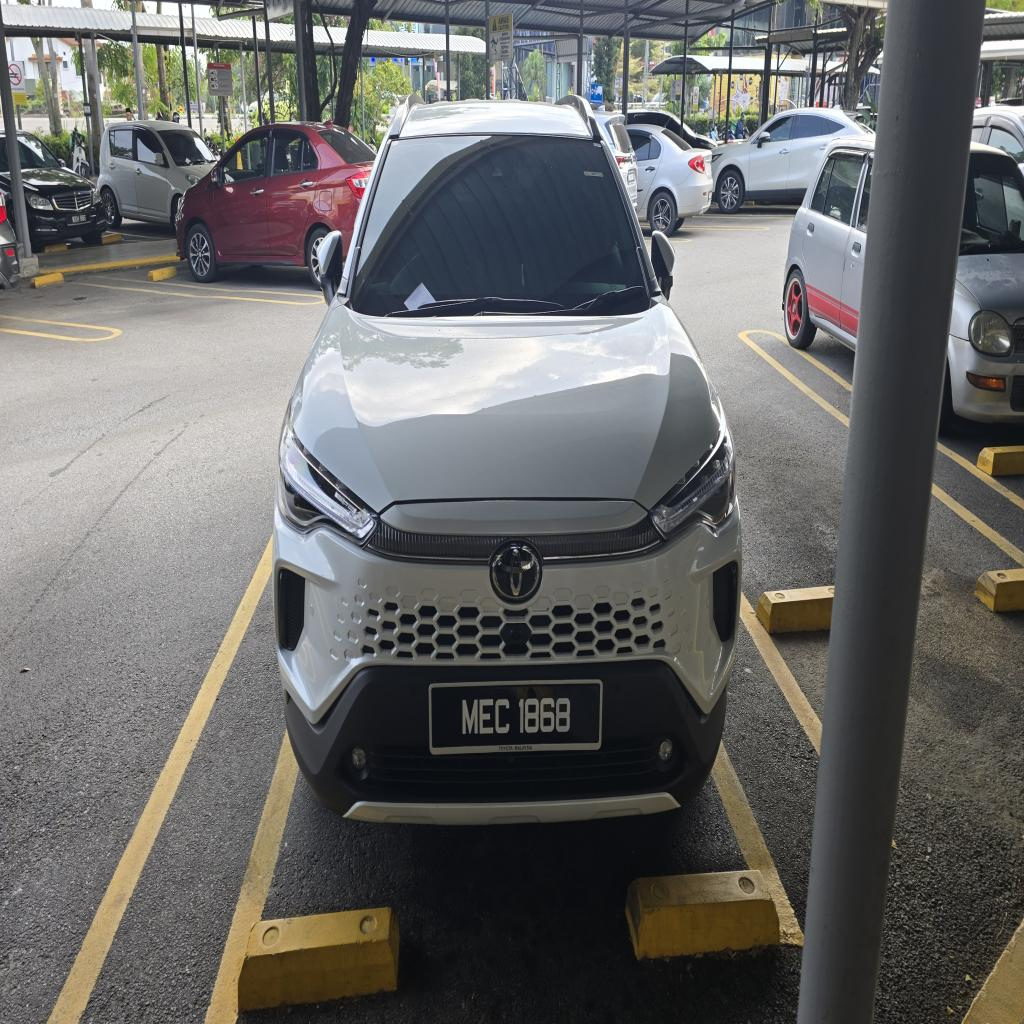car: (273, 97, 741, 823)
car plate: (430, 681, 602, 754)
